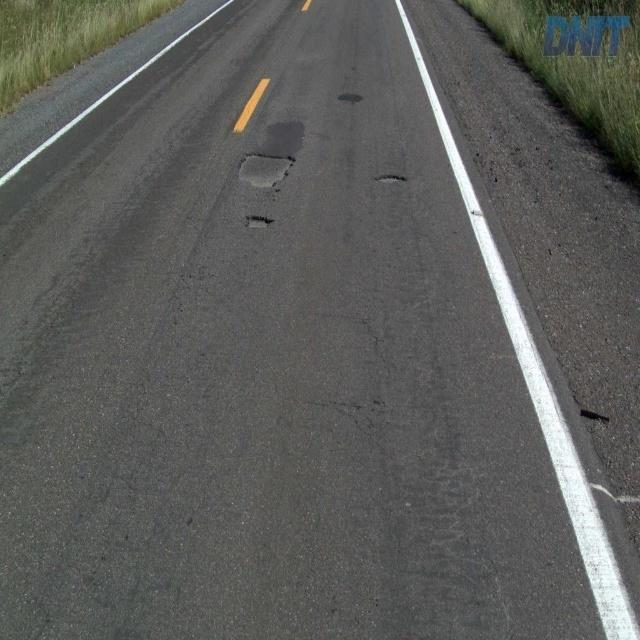pothole: (236, 151, 295, 191), (242, 210, 278, 237), (373, 168, 412, 186)
